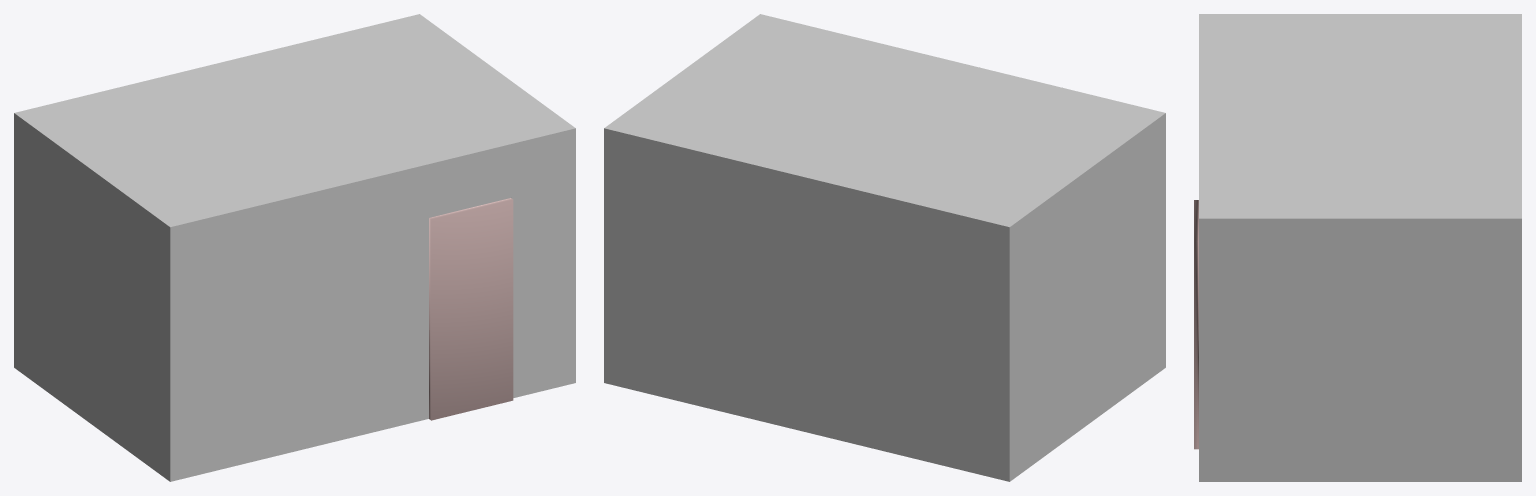
The model's file is ExportedBlenderFBXFile.fbx.
3 renders of one model, left to right at view 1: azimuth 30°, elevation 25°; view 2: azimuth 150°, elevation 25°; view 3: azimuth 270°, elevation 25°, orthographic. The views are drawn at different scales.
Parts seen in each view (by area): view 1: wall_s, ceiling, wall_w, wall_s_001; view 2: wall_n, ceiling, wall_w; view 3: wall_e, ceiling, wall_s_001.
Part boxes in pixels (bbox=[...]): wall_s: bbox=[170, 128, 575, 481]; ceiling: bbox=[14, 14, 575, 227]; wall_w: bbox=[14, 113, 170, 481]; wall_s_001: bbox=[429, 198, 513, 420]; wall_n: bbox=[604, 128, 1009, 481]; ceiling: bbox=[604, 14, 1165, 227]; wall_w: bbox=[1009, 113, 1165, 481]; wall_e: bbox=[1199, 218, 1521, 481]; ceiling: bbox=[1199, 14, 1521, 218]; wall_s_001: bbox=[1194, 200, 1198, 449].
Size of the model in its own units: 15 by 9 by 10.15.
